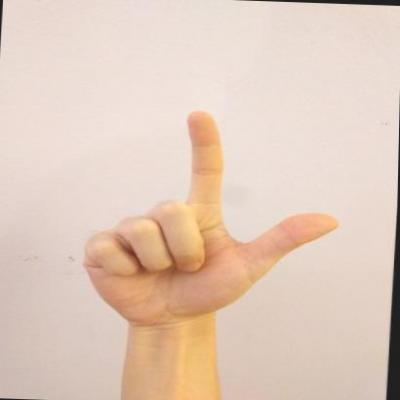hand: (76, 104, 350, 334)
